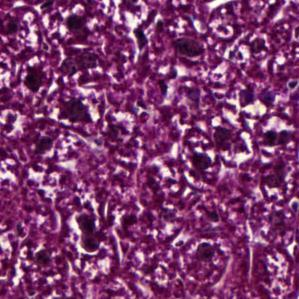inflammation: (208, 115, 257, 166), (46, 95, 101, 128), (66, 213, 103, 254)
